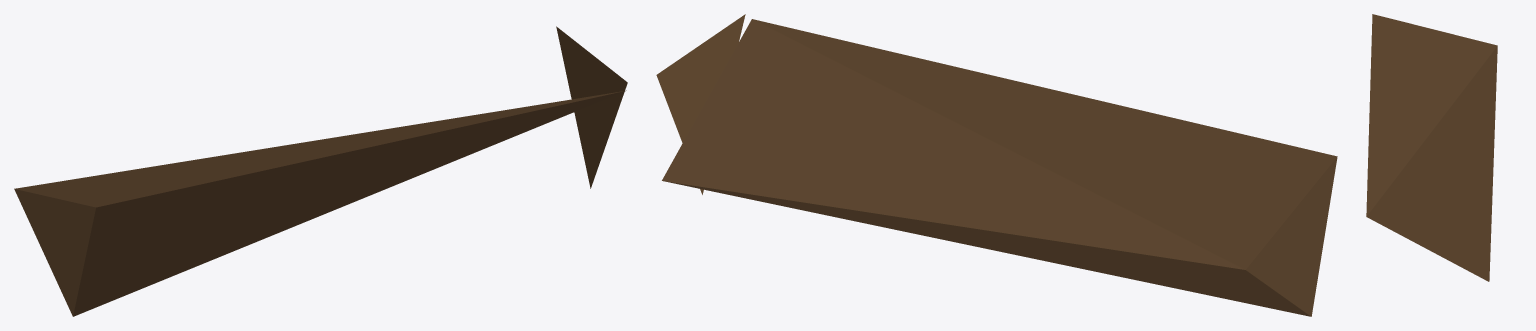
The model's file is log_single_lod2.glb.
The picture shows the model from 3 angles, left to right: view 1: azimuth 30°, elevation 25°; view 2: azimuth 150°, elevation 25°; view 3: azimuth 270°, elevation 25°; orthographic projection. The views are drawn at different scales.
Visible parts, largest first — view 1: log_single_lod2; view 2: log_single_lod2; view 3: log_single_lod2.
Part boxes in pixels (x1=…): log_single_lod2: x1=14, y1=26, x2=627, y2=316; log_single_lod2: x1=656, y1=14, x2=1337, y2=316; log_single_lod2: x1=1366, y1=14, x2=1497, y2=281.
Size of the model in its own units: 2.23 by 0.7068 by 0.7352.
